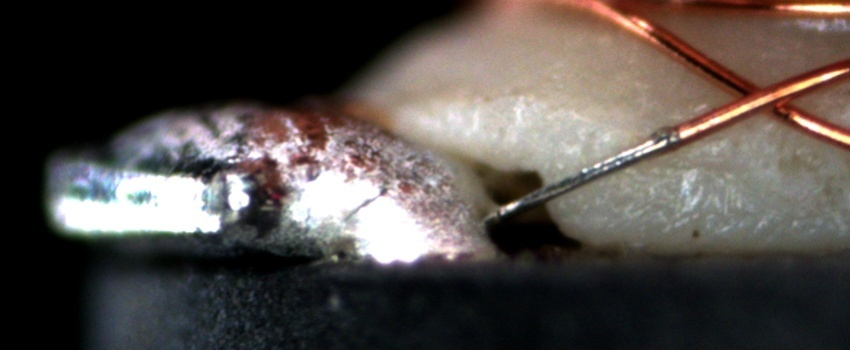CL: (714, 67, 816, 126)
DL: (597, 146, 755, 191)
TS: (493, 129, 680, 218)
